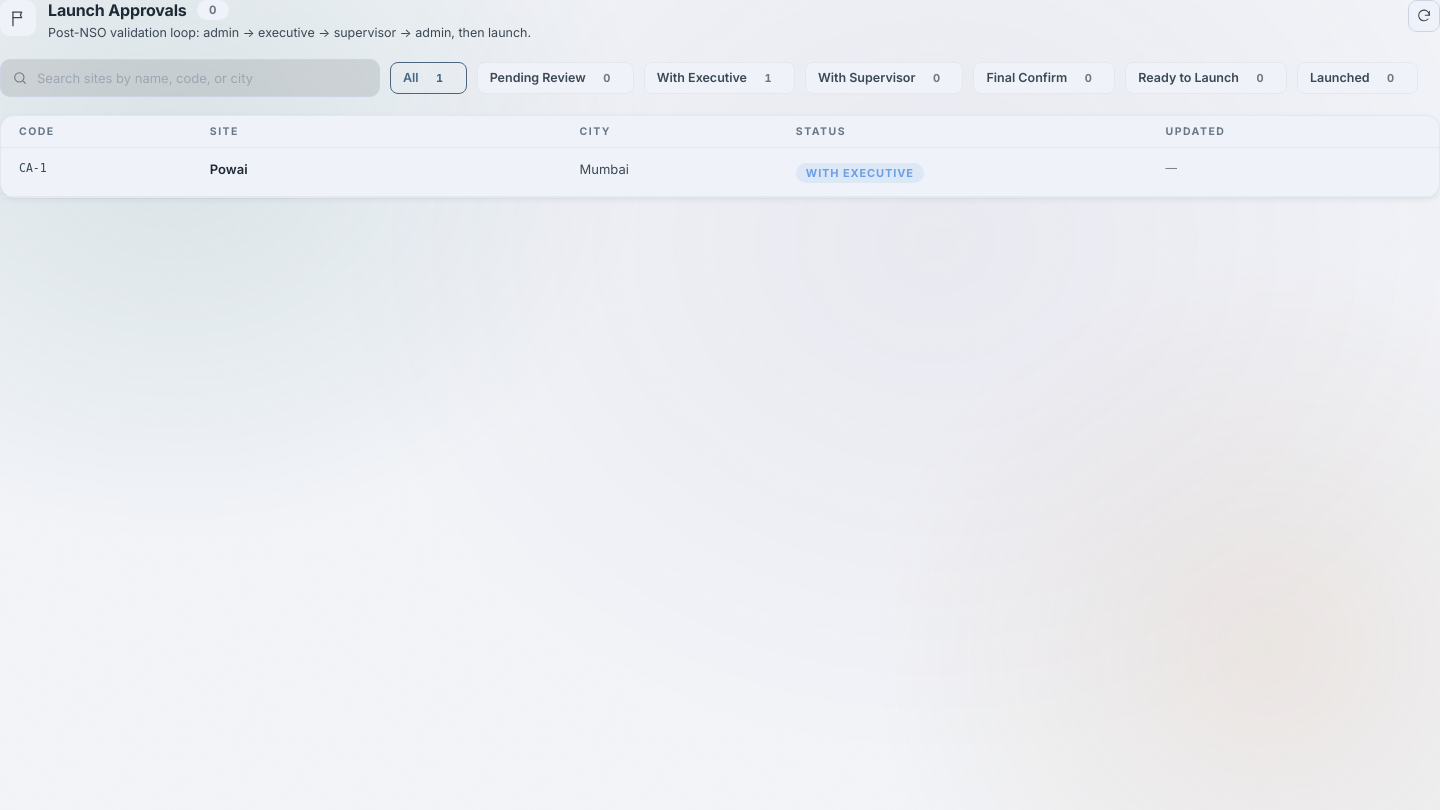
Test: LaunchApprovalTab — rent v2 › at under_exec_review the rent editor stays gated off (no Edit toggle, no form)
Click the text "Powai". click: (229, 169)
box: x1=210 y1=161 x2=248 y2=177
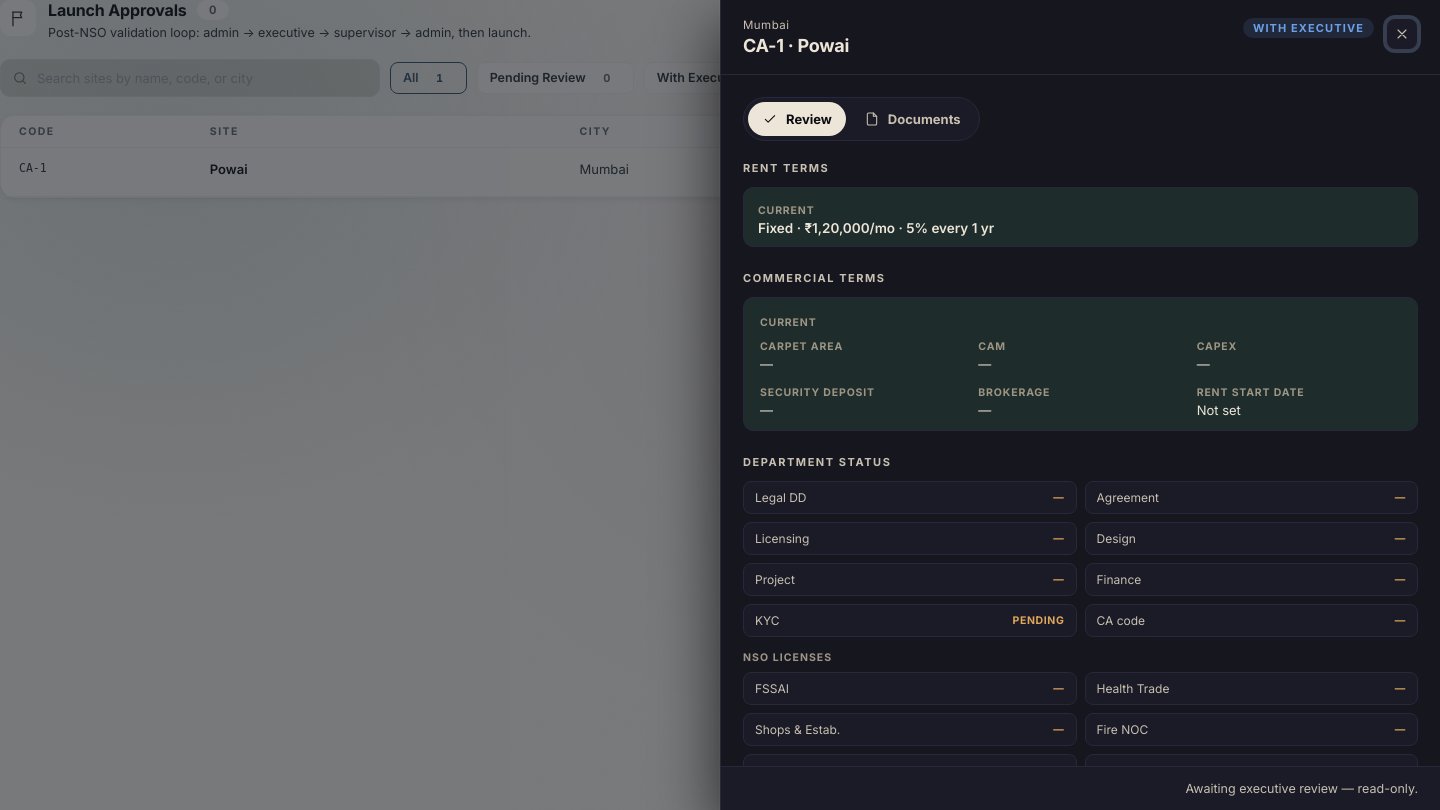
Expected: the text "Awaiting executive review — read-only." is shown, x1=1185 y1=781 x2=1418 y2=796
